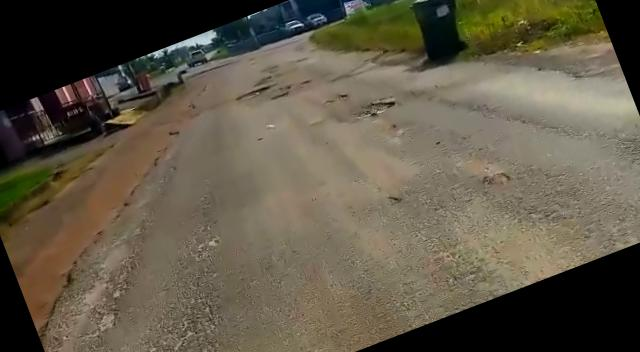pothole: (353, 90, 402, 122), (235, 81, 272, 101), (267, 83, 298, 102)
